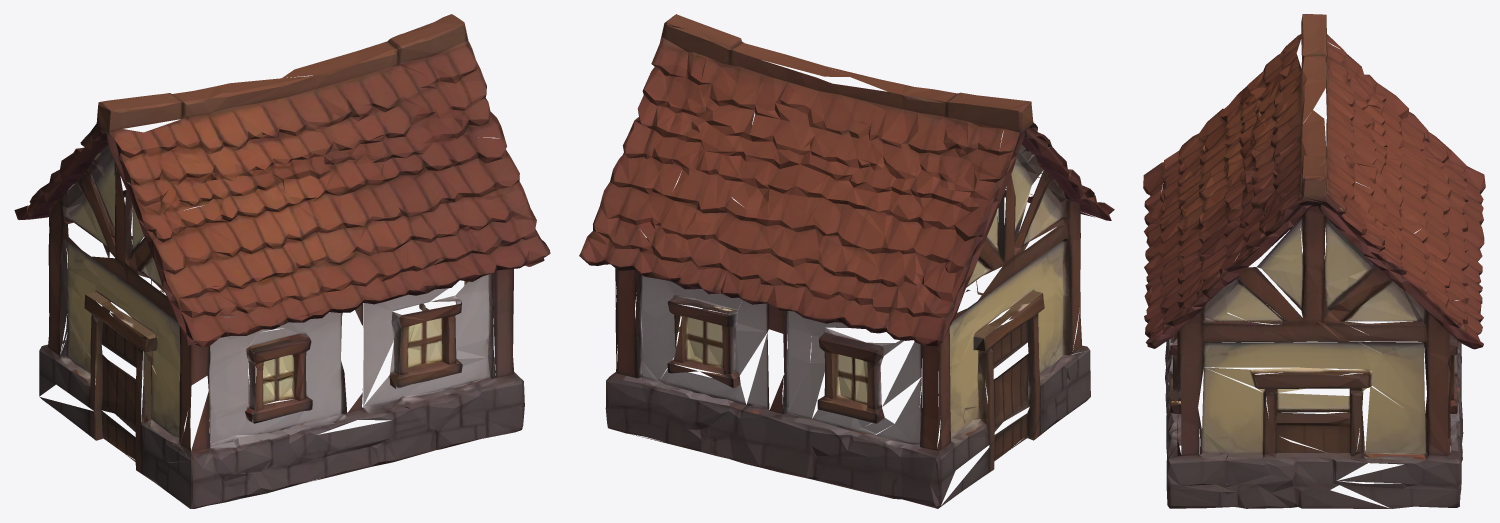
Rendered from house_c.glb.
3 renders of one model, left to right at view 1: azimuth 30°, elevation 25°; view 2: azimuth 150°, elevation 25°; view 3: azimuth 270°, elevation 25°, orthographic. The views are drawn at different scales.
Parts seen in each view (by area): view 1: geometry_0; view 2: geometry_0; view 3: geometry_0.
Boxes of the visible parts, x1,y1,x2,y2 form: geometry_0: [14, 14, 550, 508]; geometry_0: [579, 14, 1114, 508]; geometry_0: [1143, 14, 1485, 508].
Bounding box in the file's own units: 2.2 × 2.05 × 1.88.
1 material, 1 textured.
